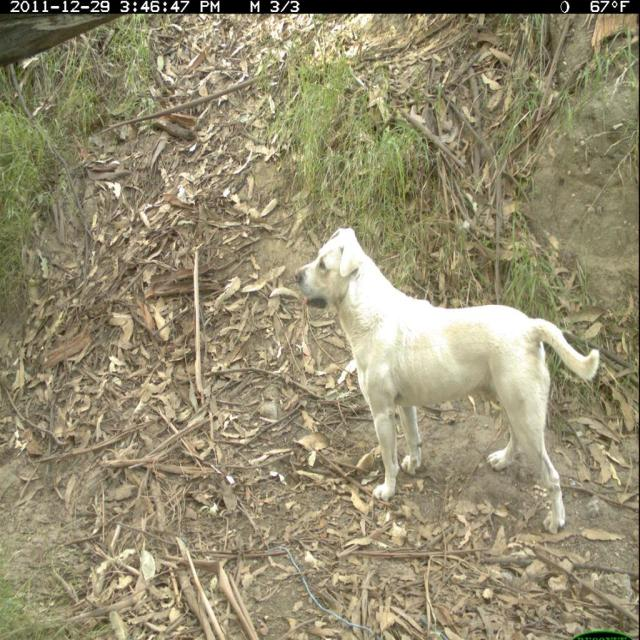dog: (290, 220, 608, 539)
